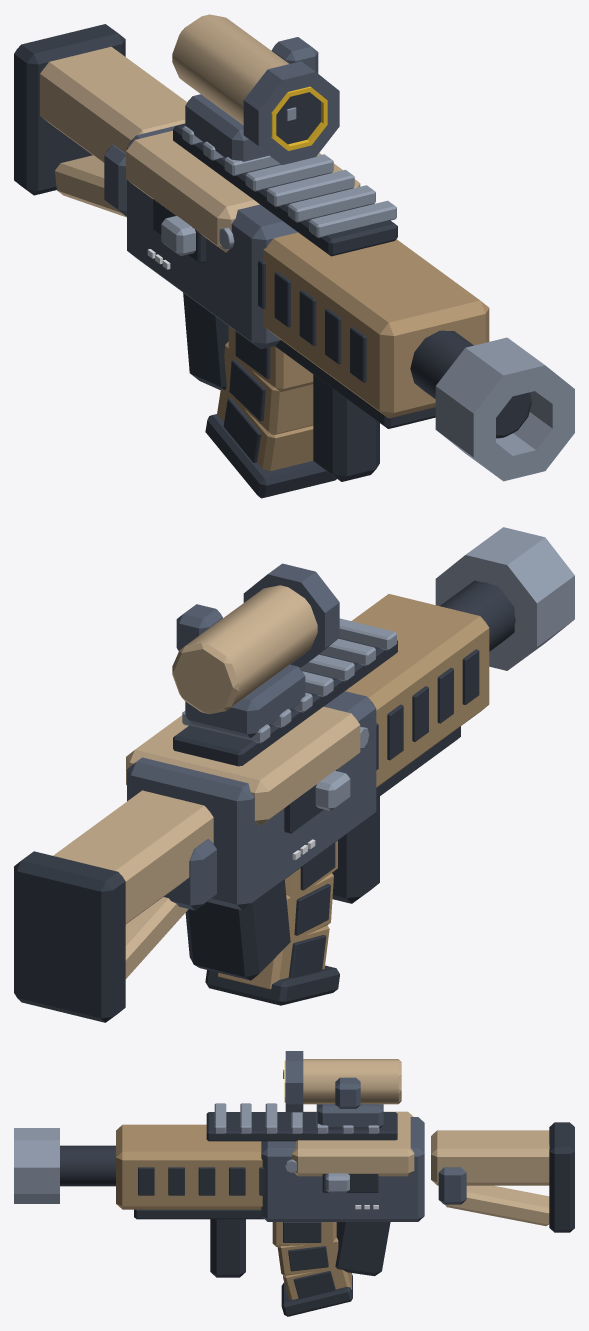
Rendered from Military_AR_v002.fbx.
3 renders of one model, top to bottom at view 1: azimuth 30°, elevation 25°; view 2: azimuth 150°, elevation 25°; view 3: azimuth 270°, elevation 25°, orthographic. The views are drawn at different scales.
Visible parts, largest first — view 1: Military_AR__RECEIVER_MESH, Military_AR__MAGAZINE_MESH; view 2: Military_AR__RECEIVER_MESH, Military_AR__MAGAZINE_MESH; view 3: Military_AR__RECEIVER_MESH, Military_AR__MAGAZINE_MESH.
Boxes of the visible parts, <box> form: Military_AR__RECEIVER_MESH: <box>14,14,574,481</box>; Military_AR__MAGAZINE_MESH: <box>205,326,336,498</box>; Military_AR__RECEIVER_MESH: <box>14,527,574,1022</box>; Military_AR__MAGAZINE_MESH: <box>205,841,339,1005</box>; Military_AR__RECEIVER_MESH: <box>14,1051,574,1277</box>; Military_AR__MAGAZINE_MESH: <box>272,1222,352,1316</box>.
Size of the model in its own units: 0.475 by 1.08 by 2.2.
